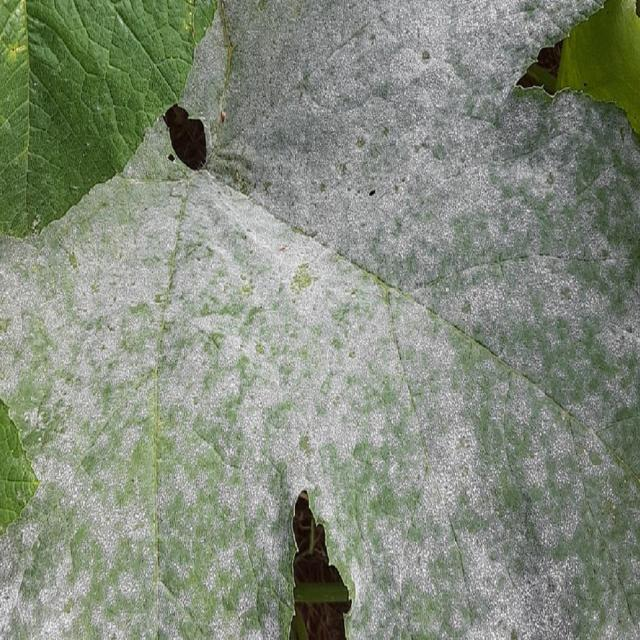Powdery Mildew: (1, 2, 638, 638), (228, 43, 368, 224)
